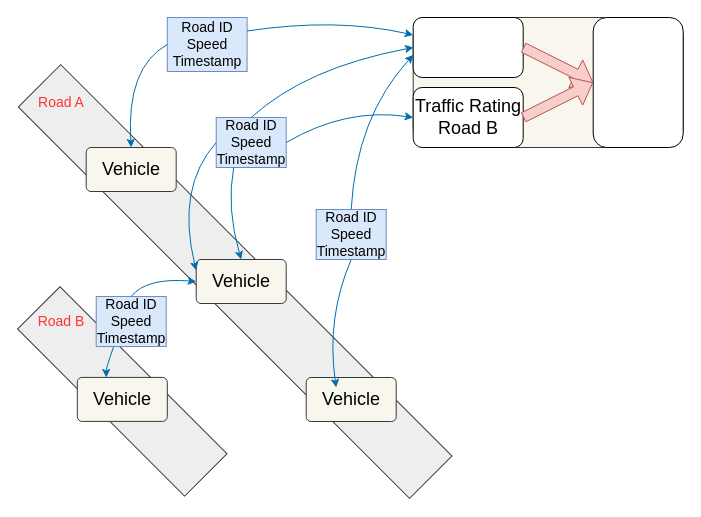
Image size: 701x517. Some labels were removed from this diagram. The shapes that lost their labels are listed below. From the top down, each one's centre as x and y in pixels, then its label:
At point 467,47: "Traffic Rating Road A".
At point 637,82: "Traffic Model".
